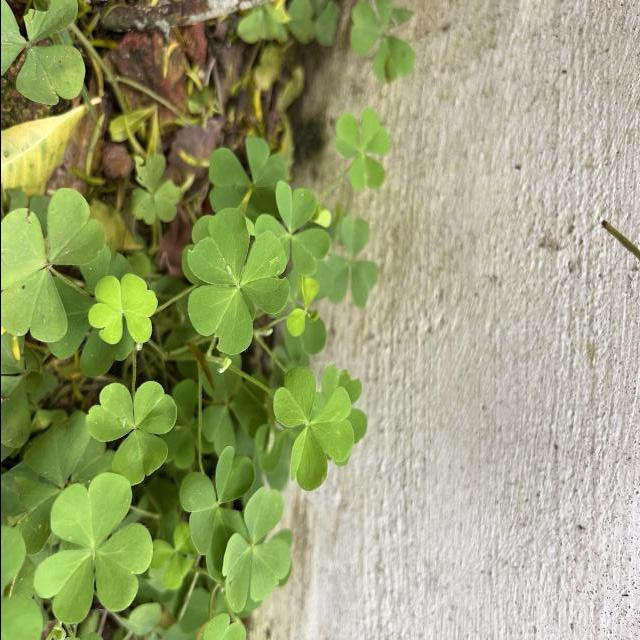Oxalis corniculata: (31, 471, 156, 627), (0, 186, 107, 346), (186, 207, 290, 356), (272, 364, 355, 492), (83, 379, 178, 487), (0, 0, 89, 109), (220, 485, 292, 615), (252, 180, 332, 278), (88, 274, 160, 348), (333, 108, 393, 194)
